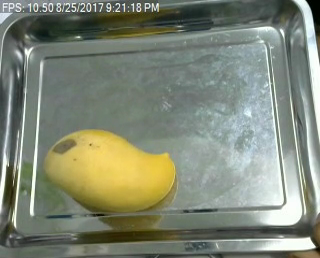Mango: (42, 126, 176, 216)
